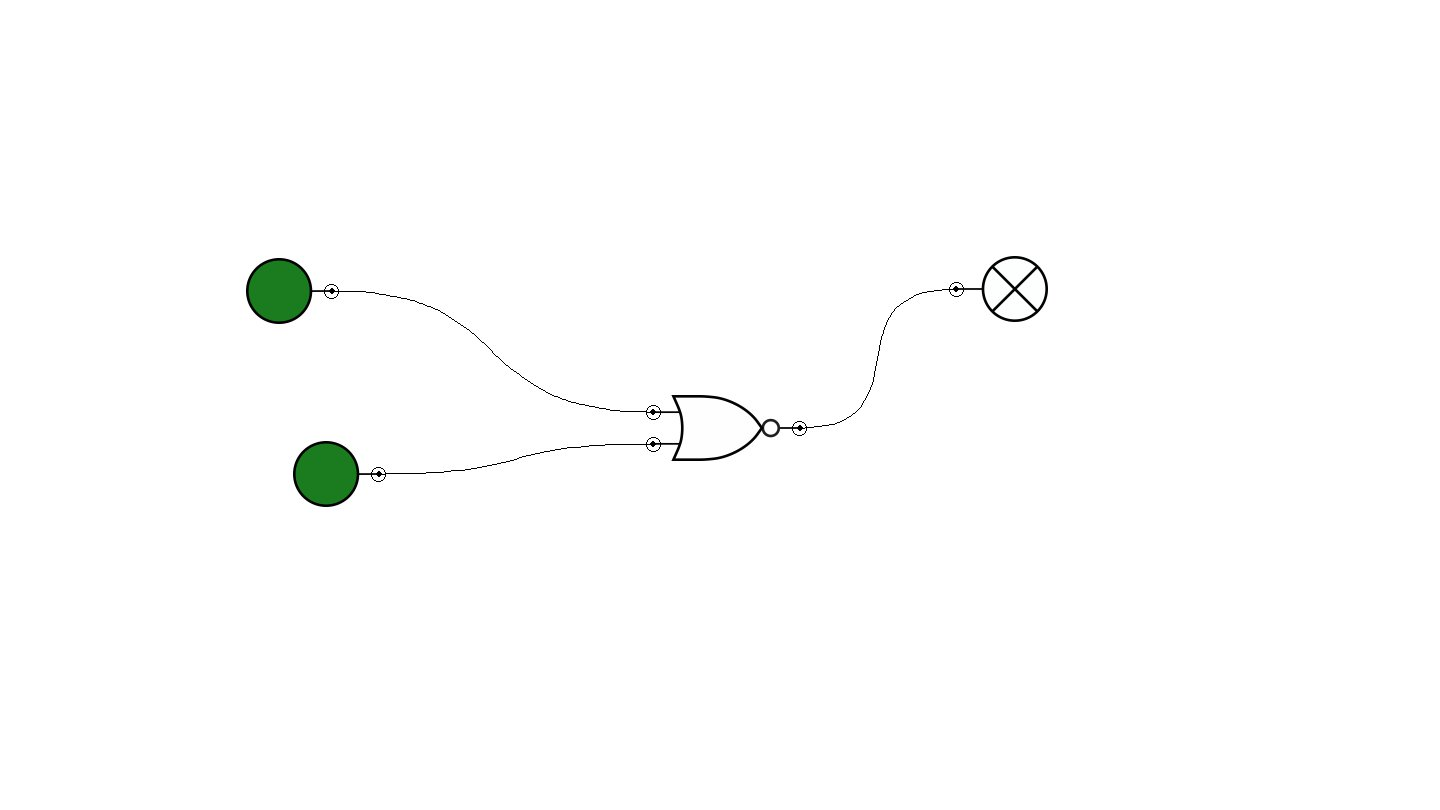bulb: (949, 256, 1048, 322)
nor: (646, 395, 807, 461)
switch_True: (293, 441, 386, 507), (246, 258, 339, 324)
